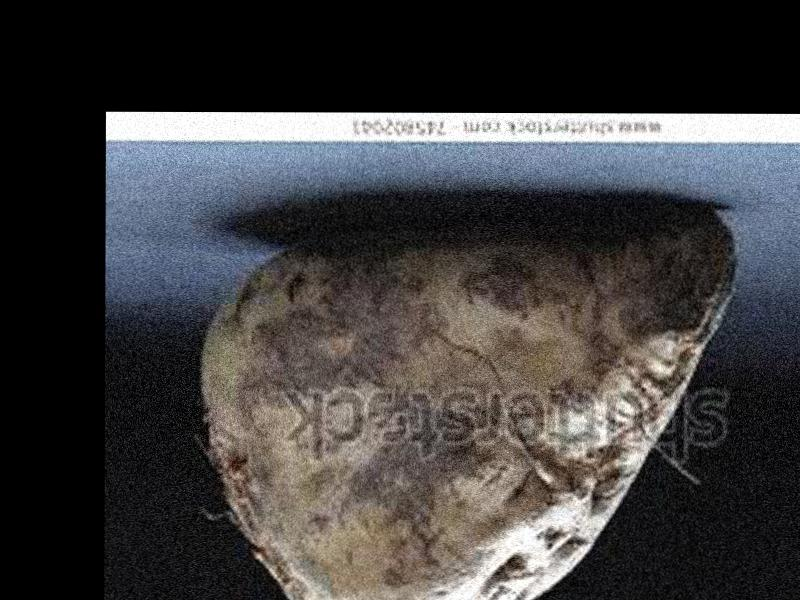Beet: (193, 213, 729, 600)
